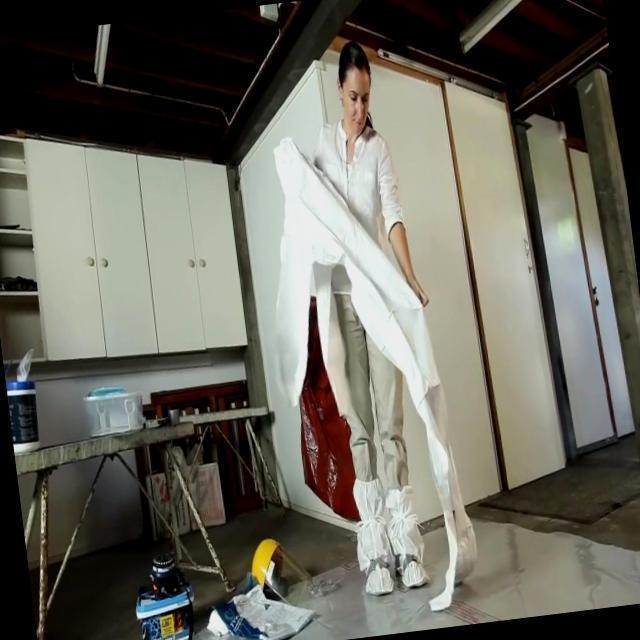no_gloves: (324, 40, 372, 81)
